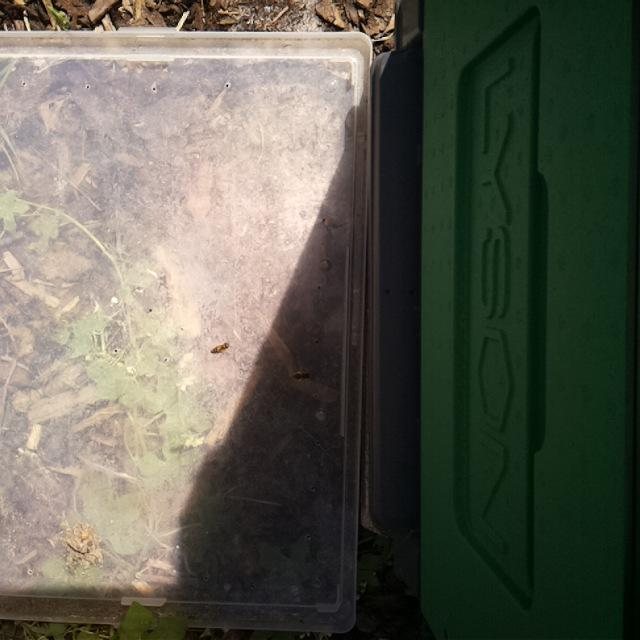worker-bee: (285, 363, 319, 391), (200, 338, 233, 363)
